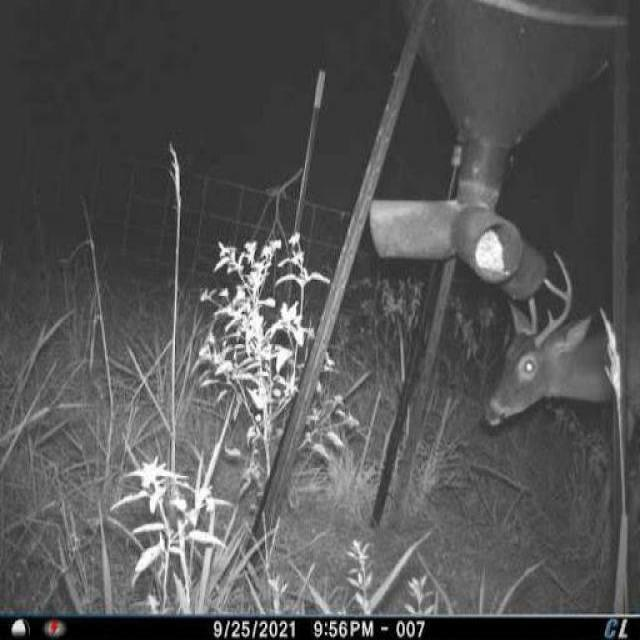deer: (475, 244, 640, 444)
